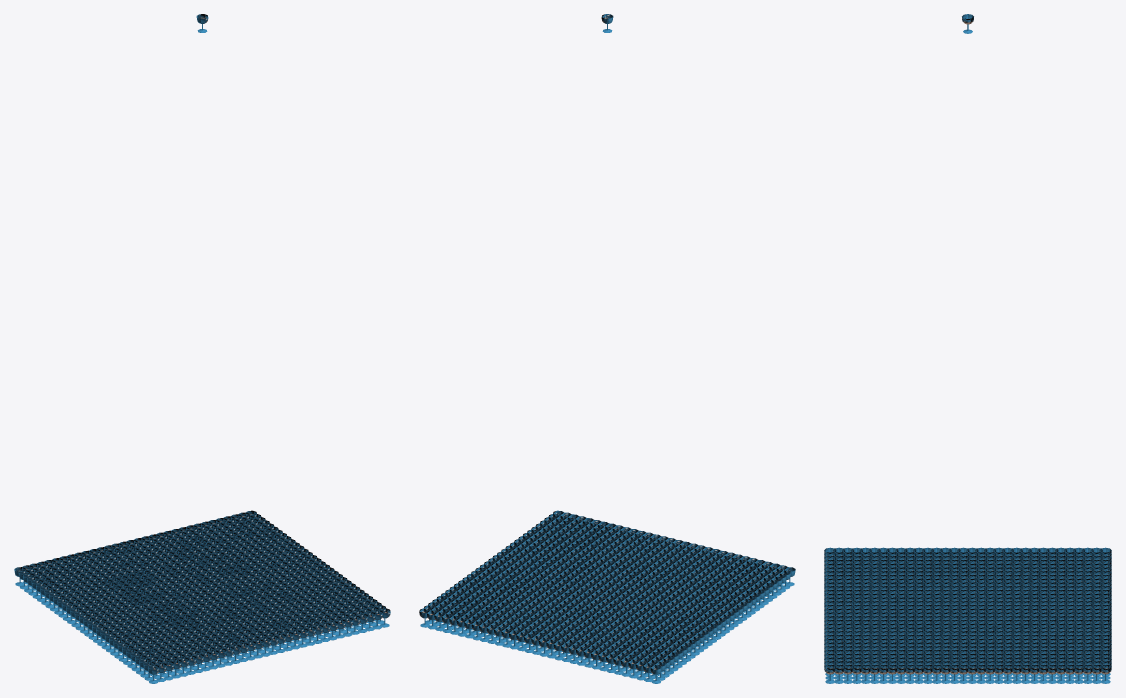
File: goblet2.obj
3 views of the same model, side by side, from view 1: azimuth 30°, elevation 25°; view 2: azimuth 150°, elevation 25°; view 3: azimuth 270°, elevation 25° (orthographic). The views are drawn at different scales.
Visible parts, largest first — view 1: Plane; view 2: Plane; view 3: Plane.
Boxes of the visible parts, x1,y1,x2,y2 form: Plane: (14, 510, 390, 683); Plane: (419, 510, 795, 683); Plane: (824, 547, 1111, 683).
Size of the model in its own units: 31.35 by 72.98 by 31.35.
